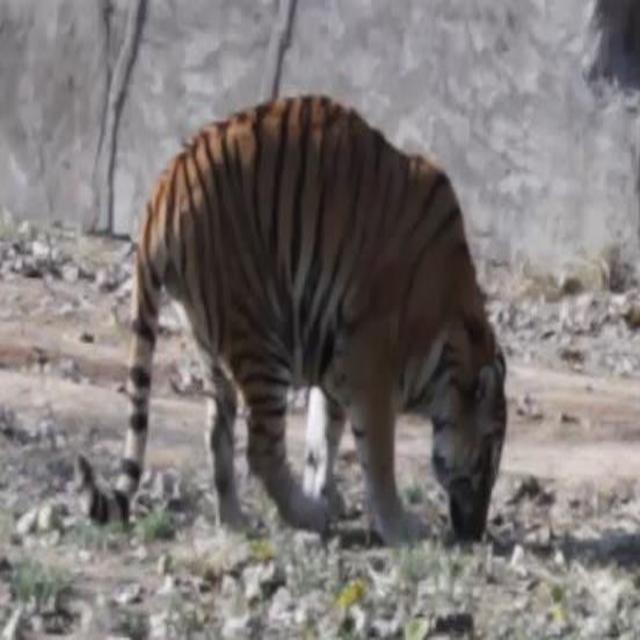tiger: (64, 82, 526, 584)
